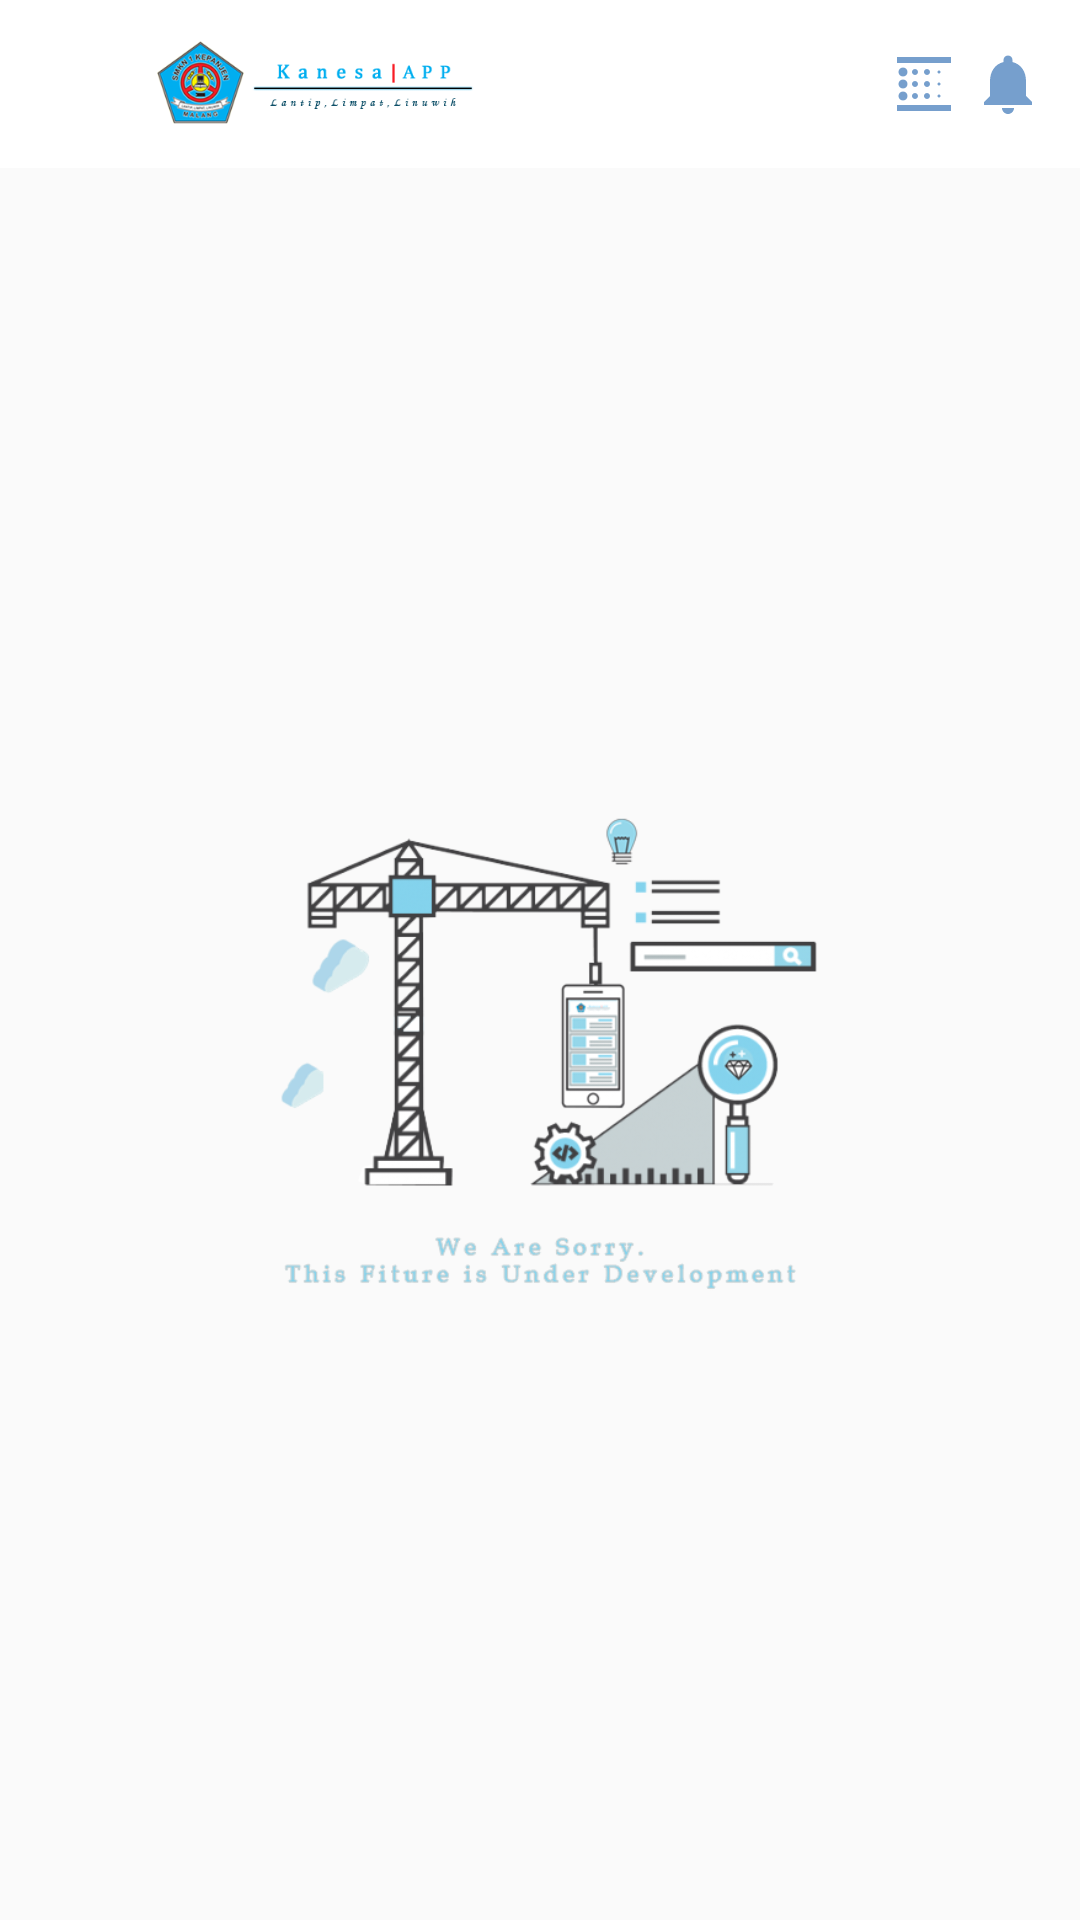

Named icons in this screenshot (1080 × 1920) and their centers, point (x, y):
Notification: point (1008, 84)
